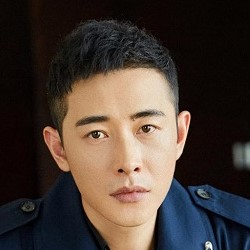unmask: (61, 104, 179, 228)
